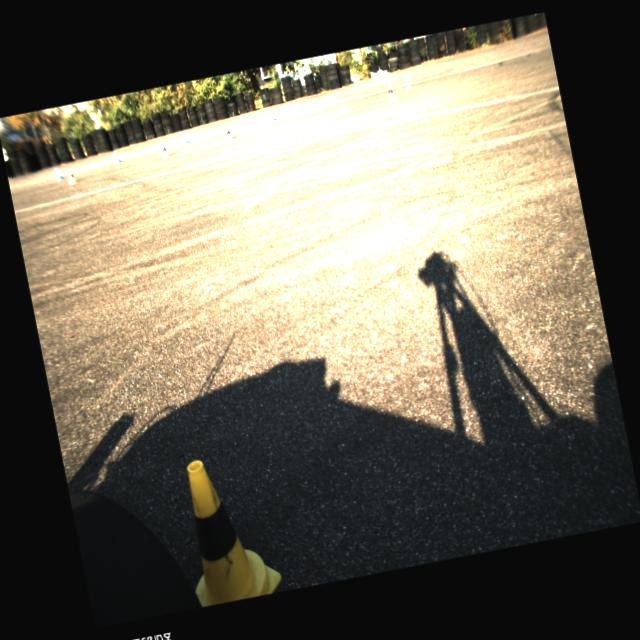blue_cone: (403, 73, 412, 88), (54, 167, 64, 180), (112, 150, 121, 164), (268, 108, 276, 121), (182, 132, 189, 144)
yellow_cone: (172, 448, 284, 608), (385, 83, 396, 101), (66, 168, 76, 186), (160, 142, 170, 158), (224, 126, 232, 141)
